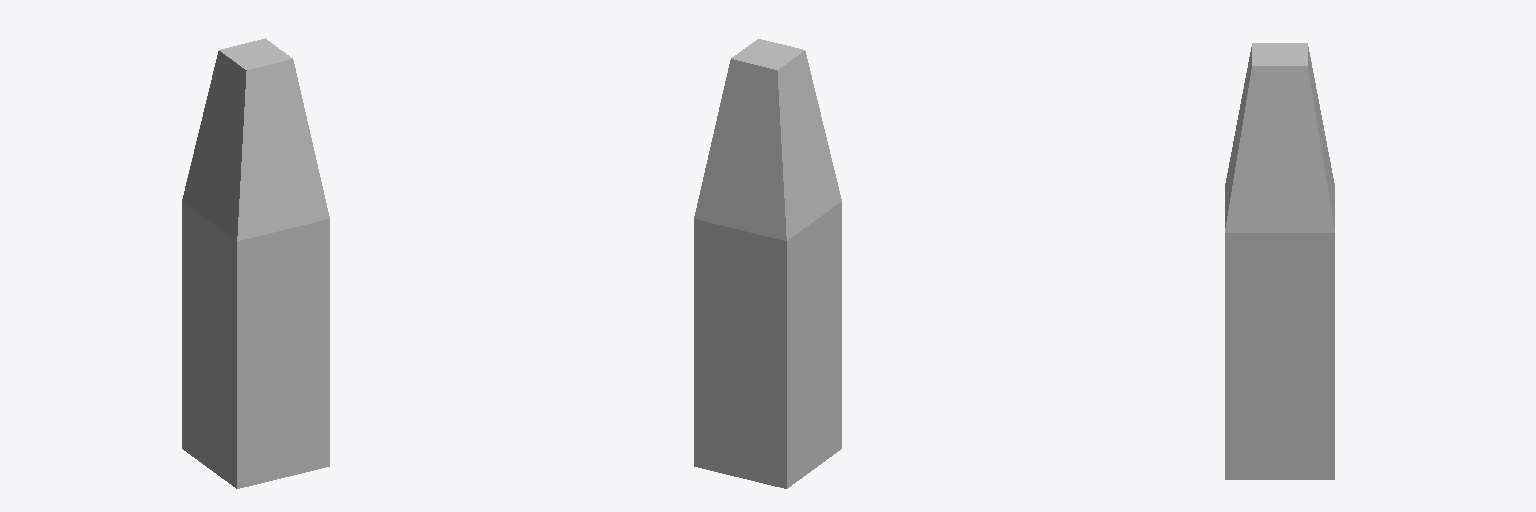
File: lms_semaphore_post_base.obj
3 views of the same model, side by side, from view 1: azimuth 30°, elevation 25°; view 2: azimuth 150°, elevation 25°; view 3: azimuth 270°, elevation 25° (orthographic).
Parts seen in each view (by area): view 1: post_base_Cube.012; view 2: post_base_Cube.012; view 3: post_base_Cube.012.
Part boxes in pixels (left/top/right/bottom): post_base_Cube.012: left=182, top=38, right=329, bottom=488; post_base_Cube.012: left=694, top=39, right=841, bottom=488; post_base_Cube.012: left=1225, top=43, right=1334, bottom=479.
Bounding box in the file's own units: 0.33 × 1.37 × 0.34.